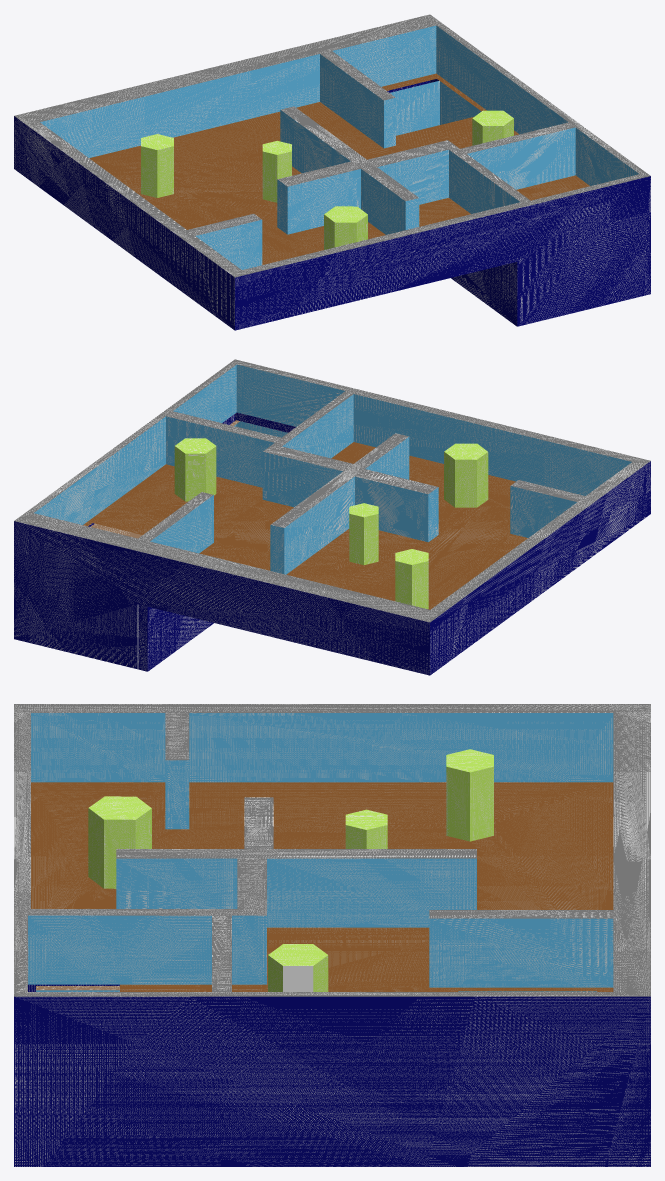
File: cubicles_env.dae
3 renders of one model, top to bottom at view 1: azimuth 30°, elevation 25°; view 2: azimuth 150°, elevation 25°; view 3: azimuth 270°, elevation 25°, orthographic. The views are drawn at different scales.
Parts seen in each view (by area): view 1: Component_1 (×11); view 2: Component_1 (×9); view 3: Component_1 (×11).
Boxes of the visible parts, <box> form: Component_1 (×11): <box>14,14,650,330</box>; Component_1 (×9): <box>14,359,650,675</box>; Component_1 (×11): <box>14,704,650,1166</box>.
Size of the model in its own units: 828 by 762 by 225.
